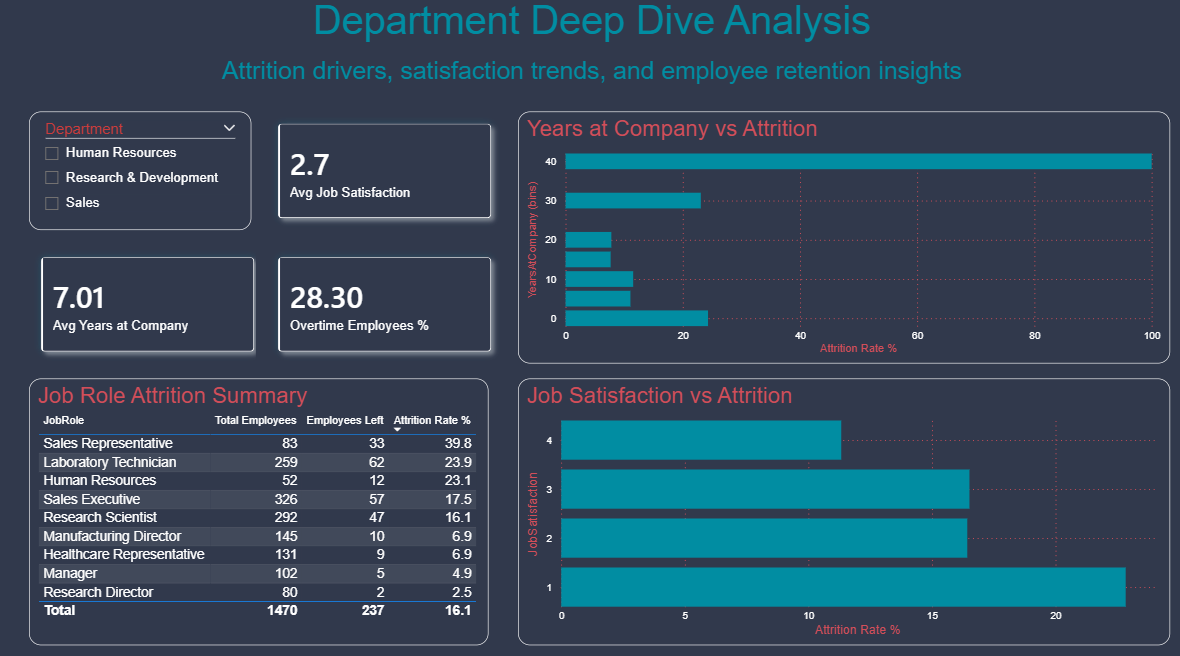

Layout of this report page (visuals, bound fields, positions):
{"tool":"powerbi","page":{"name":"Department Deep Dive","canvas":[1280,720],"ordinal":1},"visuals":[{"type":"clusteredBarChart","title":"Job Satisfaction vs Attrition","fields":{"Category":["hr_attrition_clean.JobSatisfaction"],"Y":["HR_Measures.Attrition Rate %"]},"box":[560,416,704,288],"z":0},{"type":"clusteredBarChart","title":"Years at Company vs Attrition","fields":{"Category":["hr_attrition_clean.YearsAtCompany (bins)"],"Y":["HR_Measures.Attrition Rate %"]},"box":[560,128,704,272],"z":1000},{"type":"cardVisual","fields":{"Data":["HR_Measures.Avg Job Satisfaction"]},"box":[272,112,288,160],"z":2000},{"type":"textbox","box":[0,0,1280,112],"z":3000},{"type":"tableEx","title":"Job Role Attrition Summary","fields":{"Values":["hr_attrition_clean.JobRole","HR_Measures.Total Employees","HR_Measures.Employees Left","HR_Measures.Attrition Rate %"]},"box":[32,416,496,288],"z":4000},{"type":"slicer","fields":{"Values":["hr_attrition_clean.Department"]},"box":[32,128,240,128],"z":5000},{"type":"cardVisual","fields":{"Data":["HR_Measures.Avg Years at Company"]},"box":[16,256,288,160],"z":6000},{"type":"cardVisual","fields":{"Data":["HR_Measures.Overtime Employees %"]},"box":[272,256,288,160],"z":7000}]}

Visuals, with their boxes in screenshot pixels (x1, y1, x2, y2), scaled from the page's 1280x720 canvas onto the 1180x656 screenshot:
"Job Satisfaction vs Attrition" clusteredBarChart: crop(516, 379, 1165, 641)
"Years at Company vs Attrition" clusteredBarChart: crop(516, 117, 1165, 364)
cardVisual - HR_Measures.Avg Job Satisfaction: crop(251, 102, 516, 248)
textbox: crop(0, 0, 1179, 102)
"Job Role Attrition Summary" tableEx: crop(30, 379, 487, 641)
slicer - hr_attrition_clean.Department: crop(30, 117, 251, 233)
cardVisual - HR_Measures.Avg Years at Company: crop(15, 233, 280, 379)
cardVisual - HR_Measures.Overtime Employees %: crop(251, 233, 516, 379)
